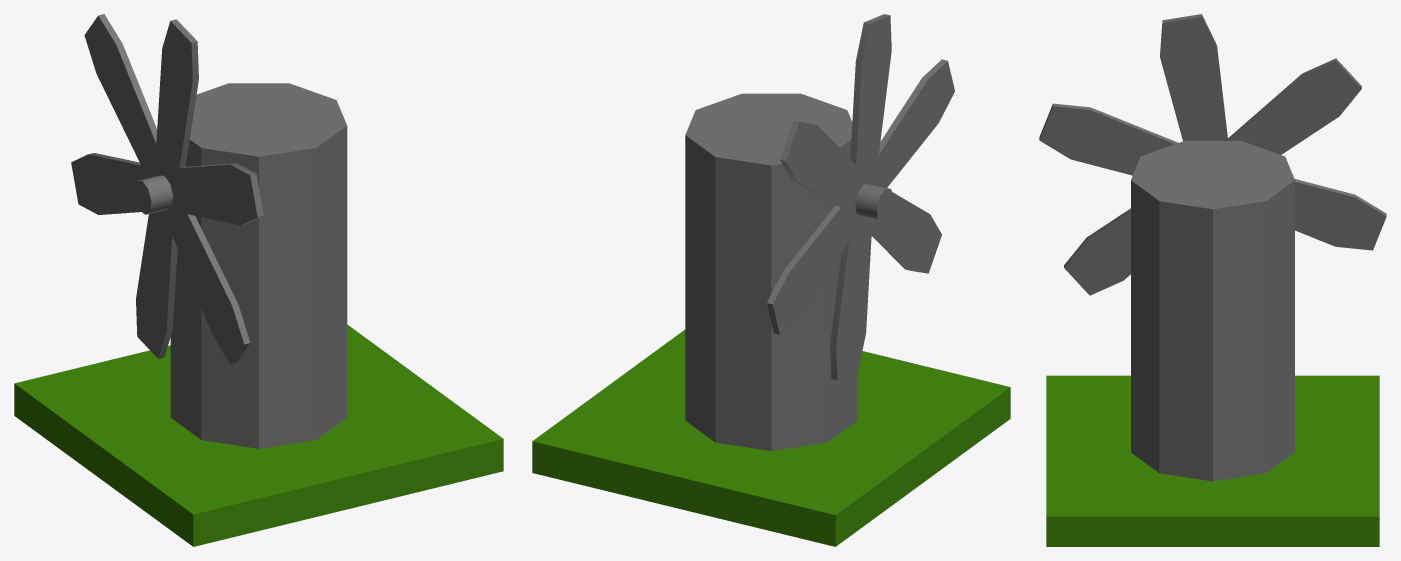
The model's file is Farm4.obj.
3 renders of one model, left to right at view 1: azimuth 30°, elevation 25°; view 2: azimuth 150°, elevation 25°; view 3: azimuth 270°, elevation 25°, orthographic. The views are drawn at different scales.
Parts seen in each view (by area): view 1: Cylinder048, Tilebase112, Box725, Box723, Box726, Box722, Box724, Box721, Cylinder049; view 2: Tilebase112, Cylinder048, Box725, Box721, Box722, Box724, Box726, Box723, Cylinder049; view 3: Cylinder048, Tilebase112, Box725, Box726, Box724, Box721, Box723.
Boxes of the visible parts, left/top/right/bottom form: Cylinder048: left=170, top=83, right=347, bottom=448; Tilebase112: left=14, top=324, right=503, bottom=546; Box725: left=155, top=19, right=198, bottom=189; Box723: left=171, top=205, right=250, bottom=364; Box726: left=84, top=14, right=160, bottom=175; Box722: left=136, top=207, right=177, bottom=358; Box724: left=166, top=163, right=263, bottom=225; Box721: left=71, top=153, right=156, bottom=214; Cylinder049: left=133, top=175, right=172, bottom=214; Tilebase112: left=532, top=329, right=1010, bottom=546; Cylinder048: left=685, top=93, right=857, bottom=450; Box725: left=850, top=14, right=891, bottom=190; Box721: left=767, top=191, right=856, bottom=334; Box722: left=830, top=211, right=871, bottom=380; Box724: left=872, top=59, right=954, bottom=187; Box726: left=780, top=120, right=860, bottom=208; Box723: left=861, top=182, right=941, bottom=273; Cylinder049: left=855, top=183, right=893, bottom=222; Cylinder048: left=1131, top=141, right=1294, bottom=481; Tilebase112: left=1046, top=375, right=1379, bottom=546; Box725: left=1160, top=14, right=1227, bottom=141; Box726: left=1228, top=58, right=1361, bottom=154; Box724: left=1039, top=103, right=1178, bottom=175; Box721: left=1295, top=179, right=1386, bottom=250; Box723: left=1064, top=208, right=1130, bottom=295.
Bounding box in the file's own units: 10 × 13.87 × 10.41.
